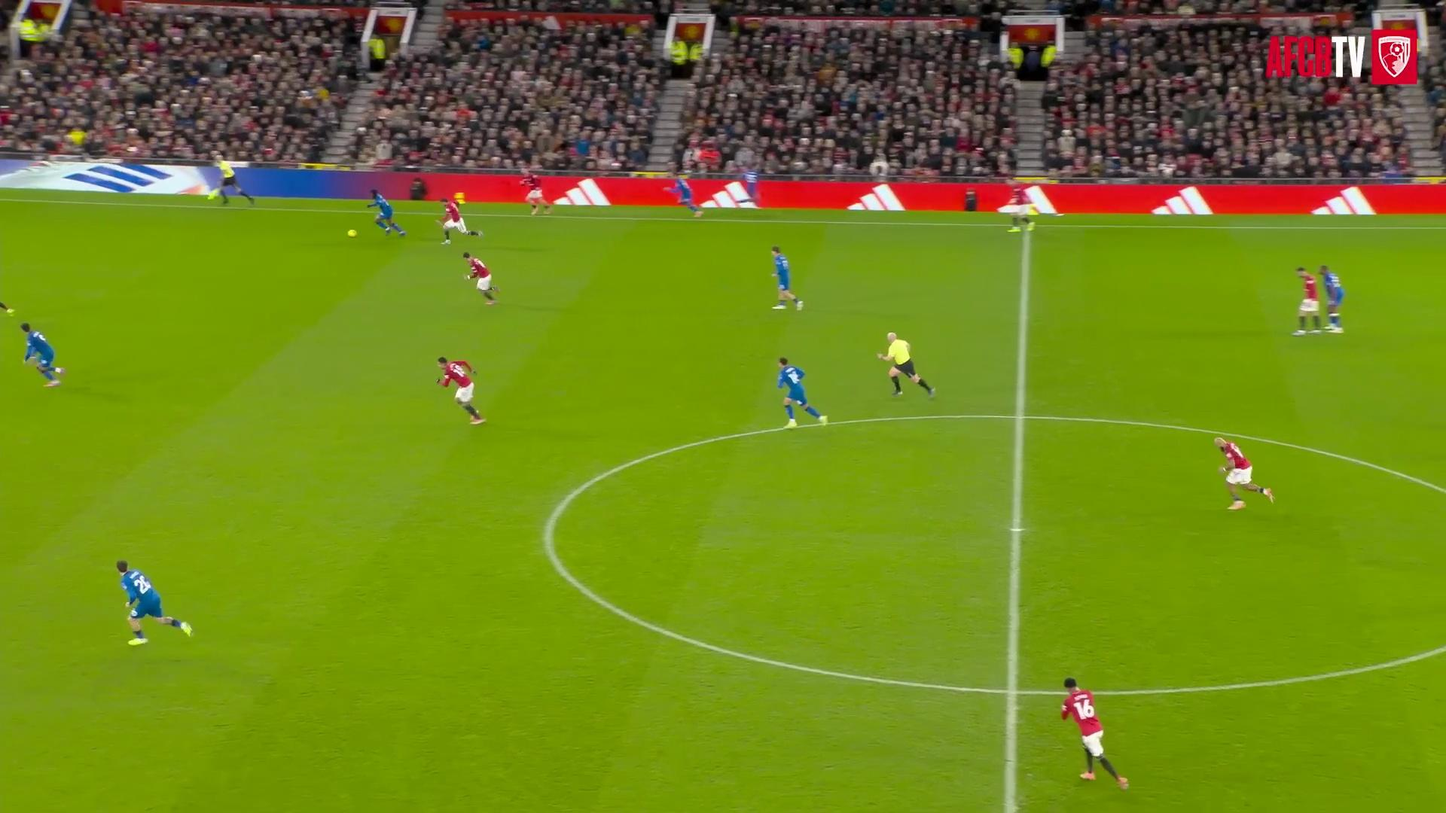football: (347, 230, 357, 237)
player: (1061, 678, 1127, 789), (117, 560, 192, 644), (1214, 438, 1274, 510), (777, 358, 827, 428), (438, 357, 484, 425), (20, 323, 65, 386), (771, 245, 803, 309), (1292, 266, 1321, 336), (438, 199, 480, 244), (368, 189, 405, 236), (462, 252, 495, 304), (1319, 265, 1344, 333), (665, 173, 702, 217), (520, 169, 551, 215), (1008, 184, 1033, 232), (740, 167, 759, 206), (0, 302, 14, 314)
referee: (875, 327, 941, 406), (209, 152, 254, 204)
